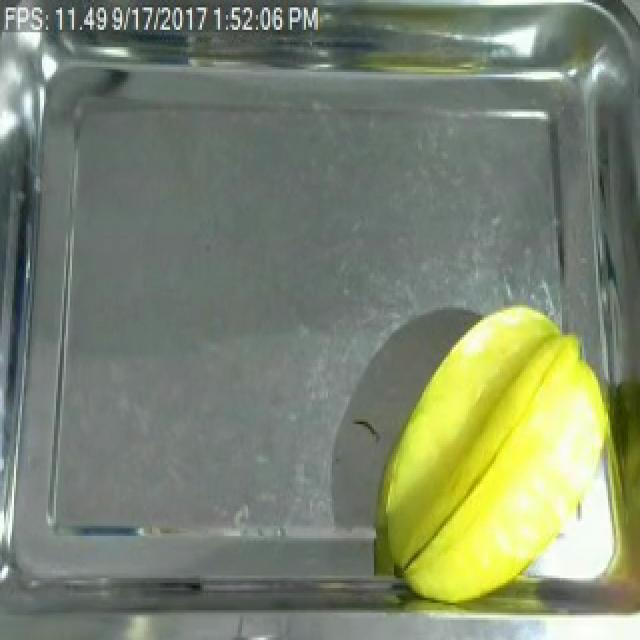fruit: (366, 292, 626, 618)
